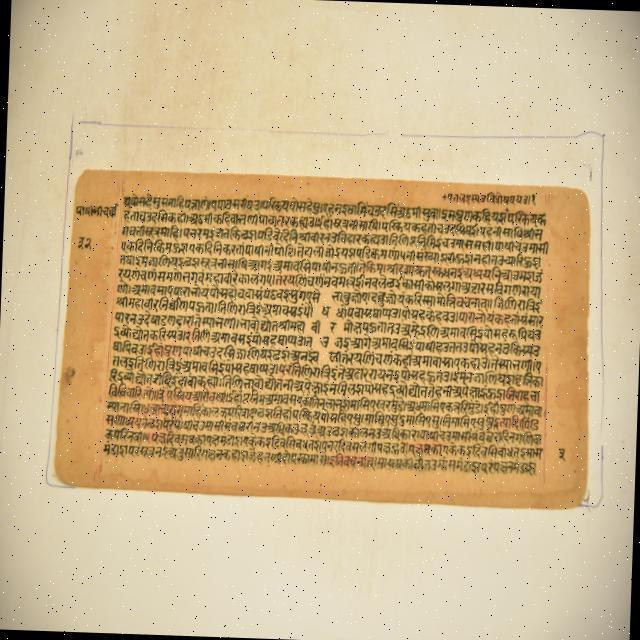text_paragraph: (53, 166, 588, 503)
